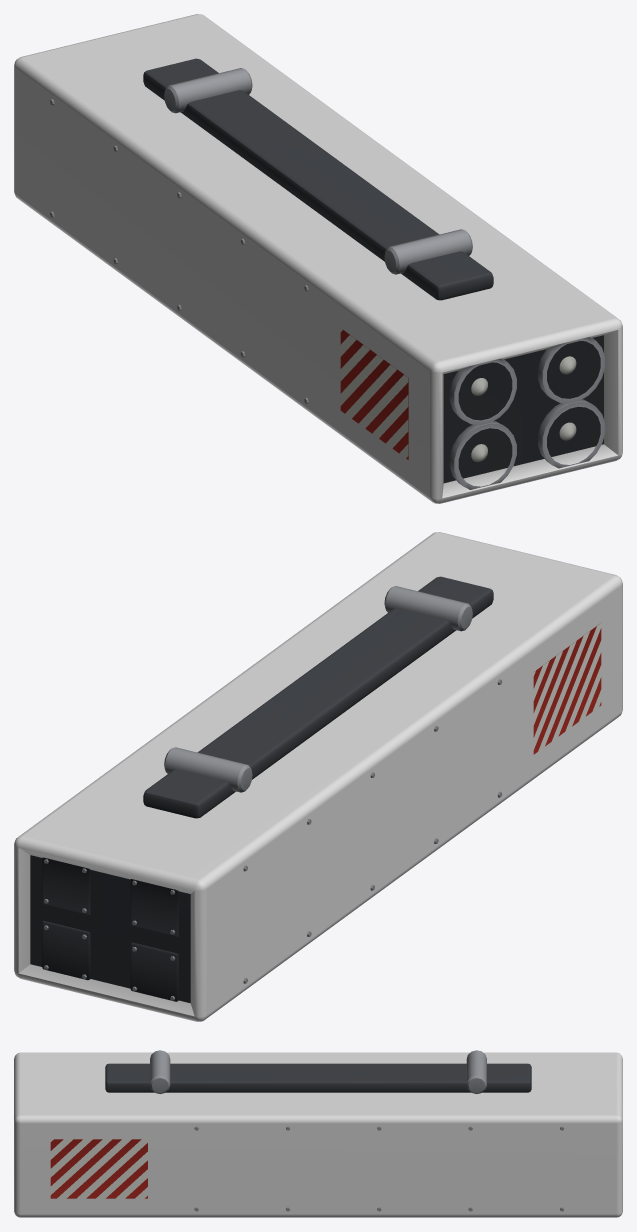
The model's file is lanzador_misiles.glb.
3 views of the same model, one above another, from view 1: azimuth 30°, elevation 25°; view 2: azimuth 150°, elevation 25°; view 3: azimuth 270°, elevation 25° (orthographic). The views are drawn at different scales.
Parts seen in each view (by area): view 1: cuerpo; view 2: cuerpo; view 3: cuerpo.
Part boxes in pixels (left/top/right/bottom): cuerpo: left=14, top=14, right=622, bottom=503; cuerpo: left=14, top=532, right=622, bottom=1021; cuerpo: left=14, top=1050, right=622, bottom=1217.
Size of the model in its own units: 0.346 by 0.2908 by 1.3.
